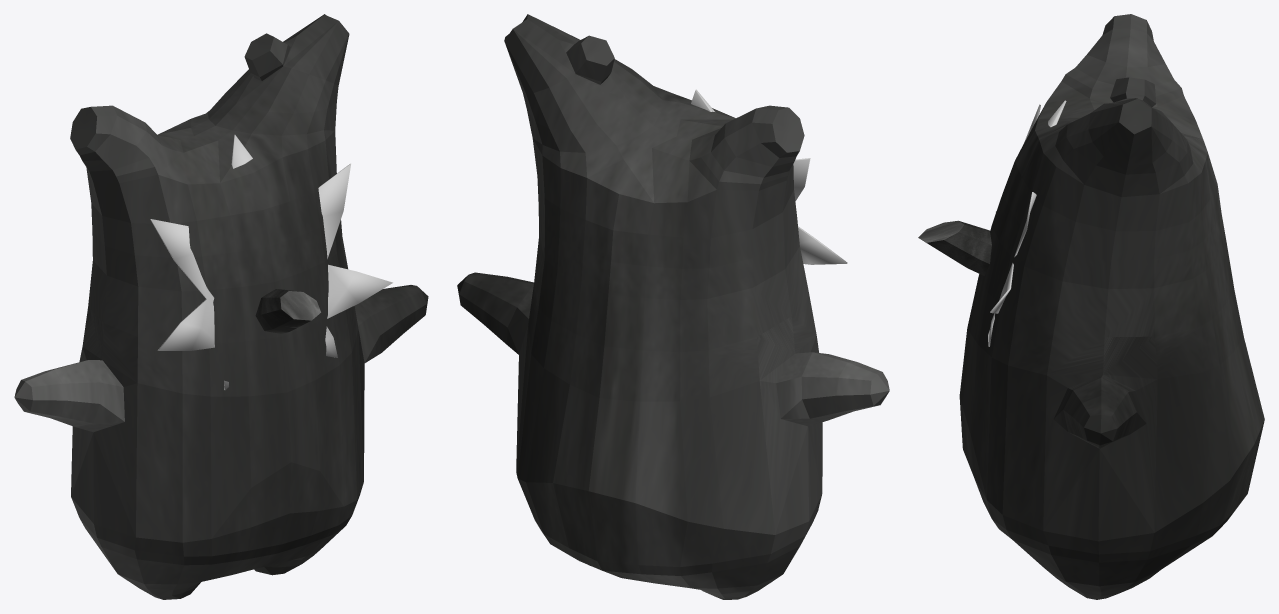
File: frame_0034.obj
3 views of the same model, side by side, from view 1: azimuth 30°, elevation 25°; view 2: azimuth 150°, elevation 25°; view 3: azimuth 270°, elevation 25° (orthographic). The views are drawn at different scales.
Visible parts, largest first — view 1: korok, leaf, nose; view 2: korok, leaf; view 3: korok, nose, leaf.
Boxes of the visible parts, left/top/right/bottom form: korok: left=14, top=14, right=428, bottom=599; leaf: left=150, top=134, right=392, bottom=390; nose: left=255, top=289, right=320, bottom=333; korok: left=457, top=14, right=889, bottom=599; leaf: left=691, top=89, right=847, bottom=264; korok: left=959, top=14, right=1264, bottom=599; nose: left=918, top=220, right=991, bottom=275; leaf: left=988, top=100, right=1066, bottom=346.
Bounding box in the file's own units: 1.85 × 2.25 × 1.33.
